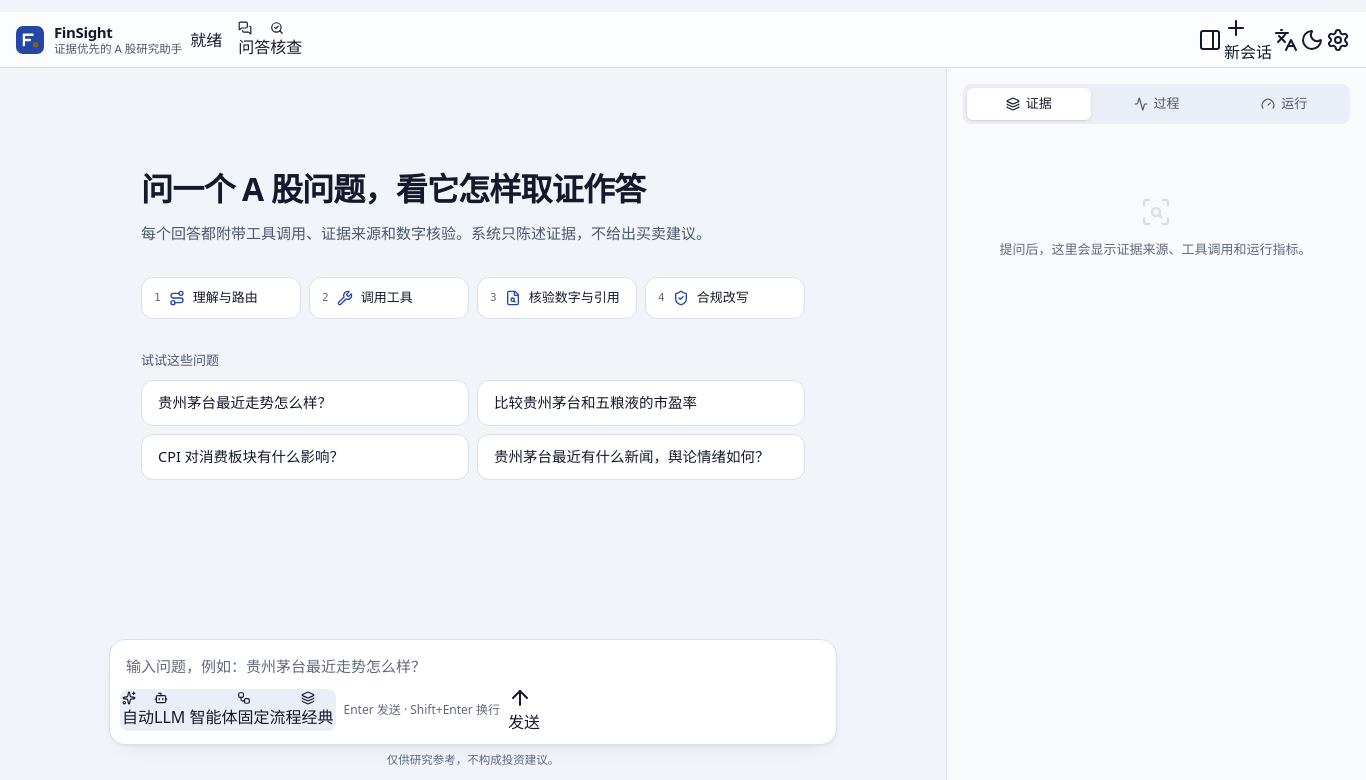
Test case: system notices follow the language (round 12, H14) › re-renders the new-session notice after switching zh -> en -> zh
Click the button "新会话": (1248,40) left=1224, top=16, right=1272, bottom=64
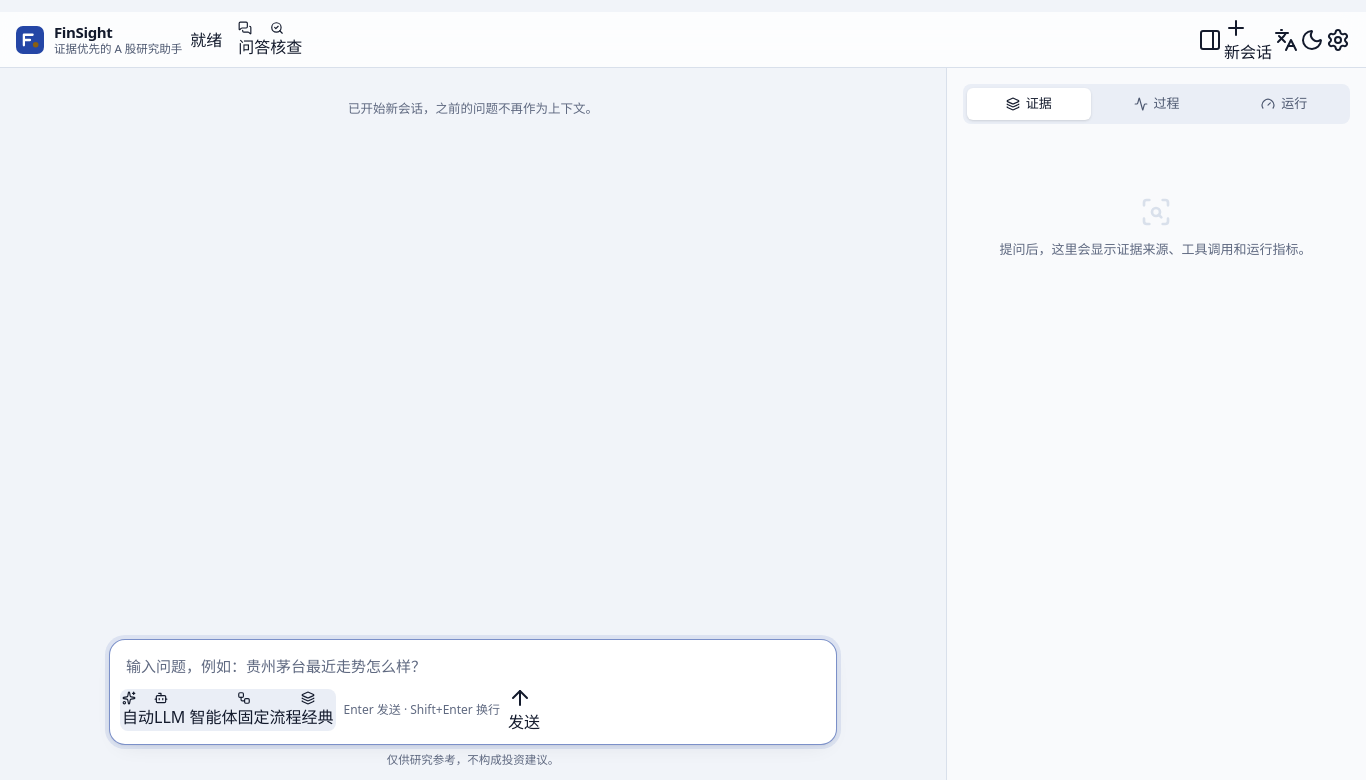
Click the button with id "lang-toggle": (1286,40) left=1274, top=28, right=1298, bottom=52
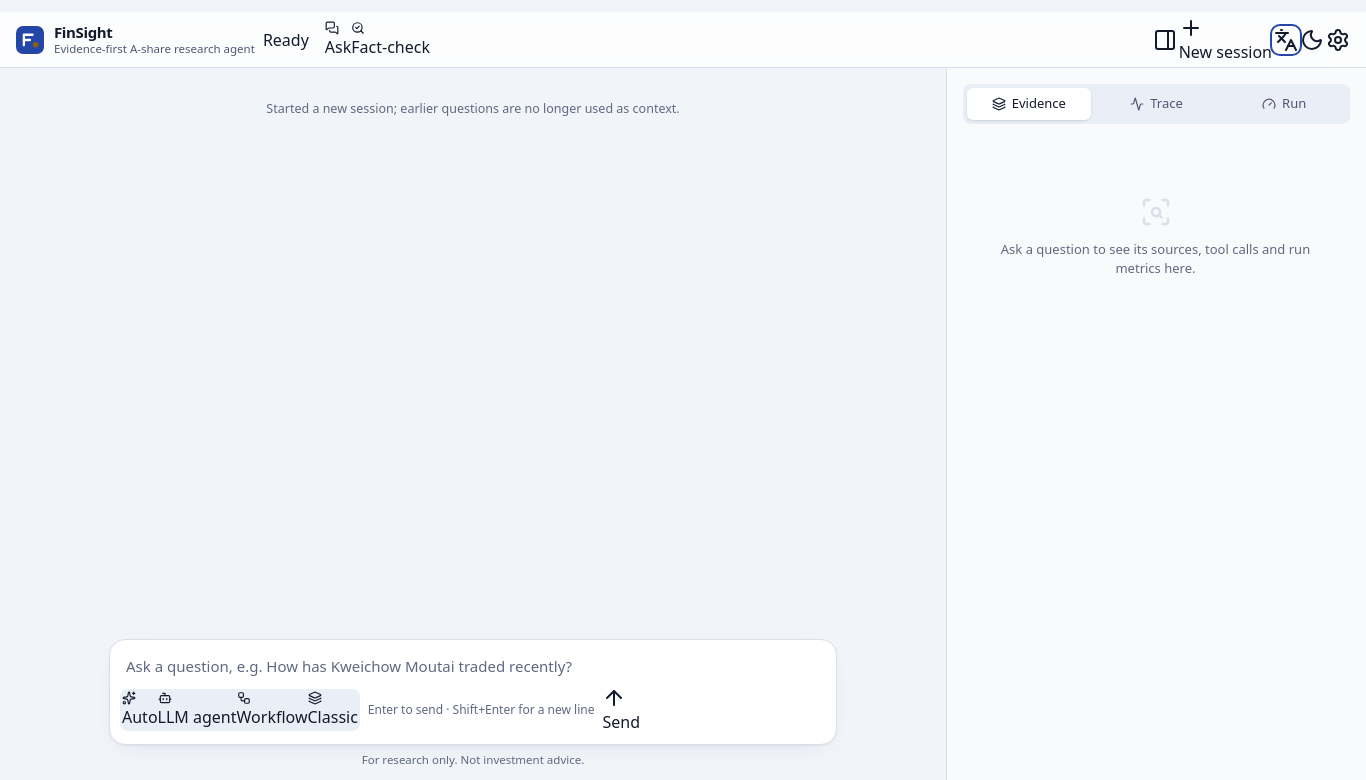
Now the text "已开始新会话，之前的问题不再作为上下文。" is gone
Click the button with id "lang-toggle": (1286,40) left=1274, top=28, right=1298, bottom=52
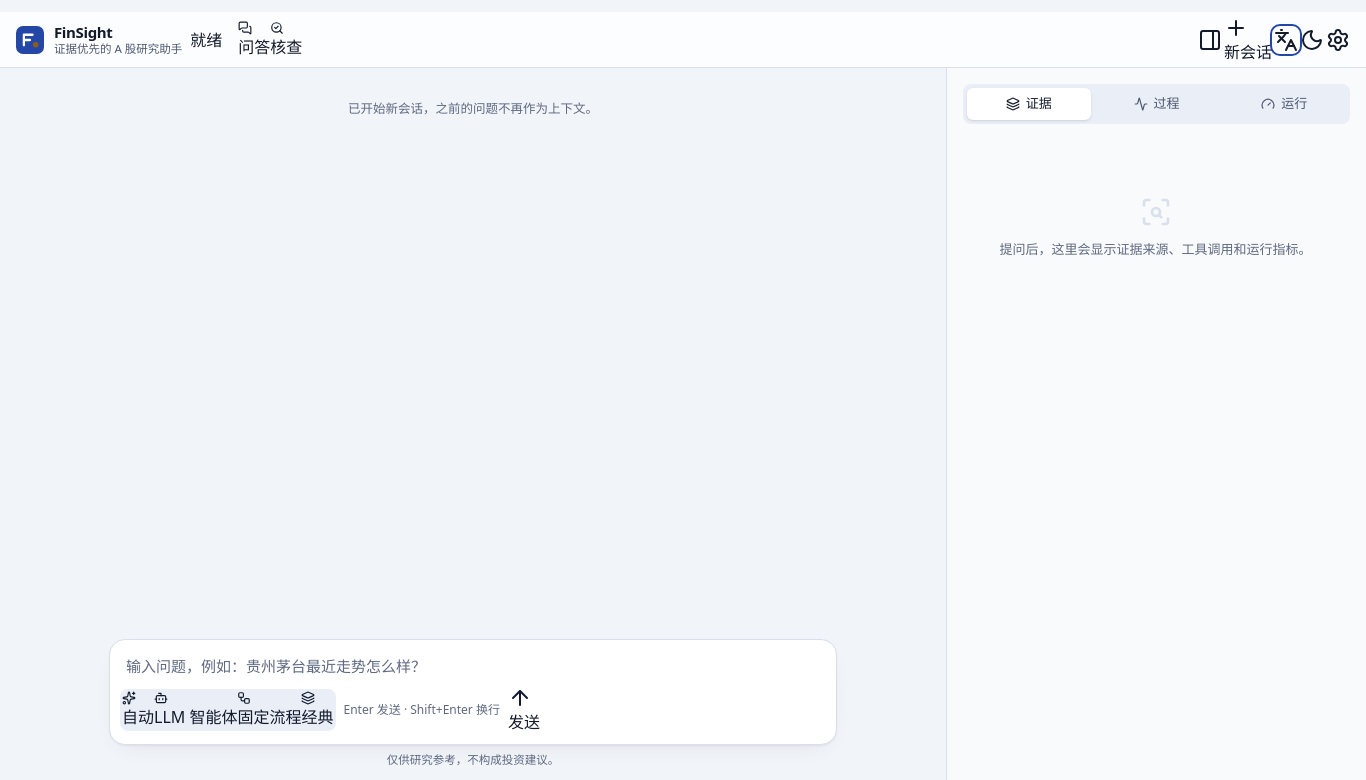
Now the text "已开始新会话，之前的问题不再作为上下文。" is shown, box left=348, top=100, right=598, bottom=117
Now the text "Started a new session; earlier questions are no longer used as context." is gone
